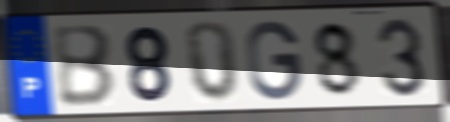0: (185, 19, 241, 106)
3: (374, 15, 429, 100)
8: (311, 19, 366, 99), (123, 24, 174, 106)
B: (49, 22, 118, 110)
G: (244, 18, 304, 103)
